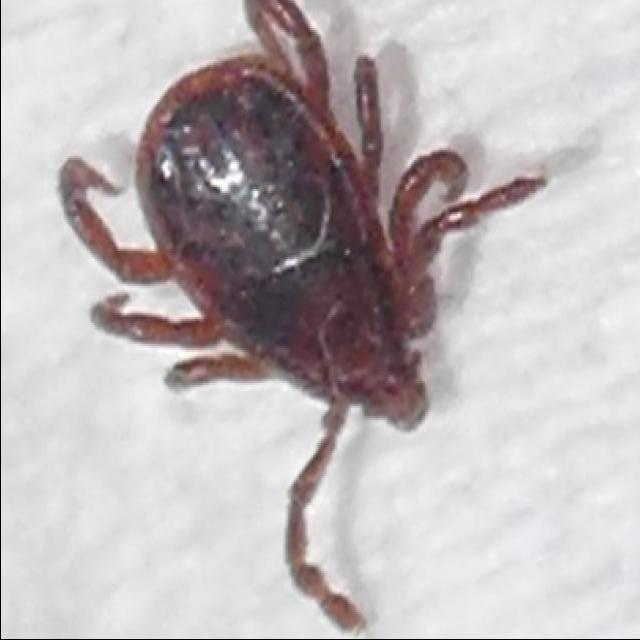Rhipicephalus Sanguineus-M: (57, 0, 547, 634)
